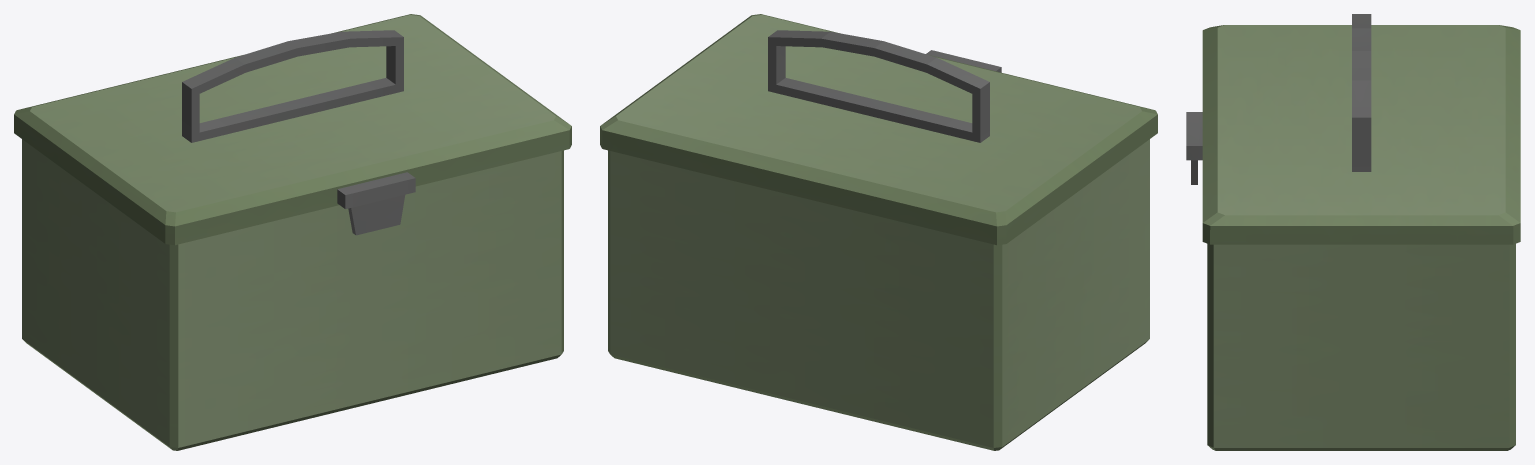
Rendered from toolbox_1.dae.
3 renders of one model, left to right at view 1: azimuth 30°, elevation 25°; view 2: azimuth 150°, elevation 25°; view 3: azimuth 270°, elevation 25°, orthographic.
Visible parts, largest first — view 1: box, cover; view 2: box, cover; view 3: cover, box.
Part boxes in pixels (x1,y1,x2,y2): box: (22,139,563,450); cover: (14,14,571,245); box: (608,139,1149,450); cover: (600,14,1157,245); cover: (1186,14,1520,244); box: (1207,244,1515,450).
Size of the model in its own units: 0.3916 by 0.2784 by 0.2812.
